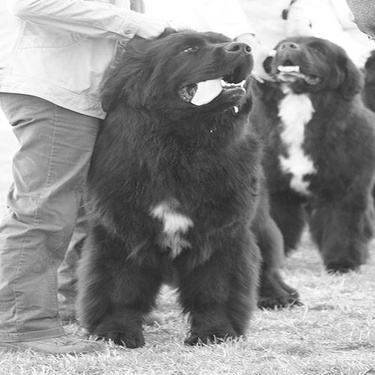dog: (70, 19, 303, 347), (234, 28, 375, 279), (334, 31, 375, 119)
